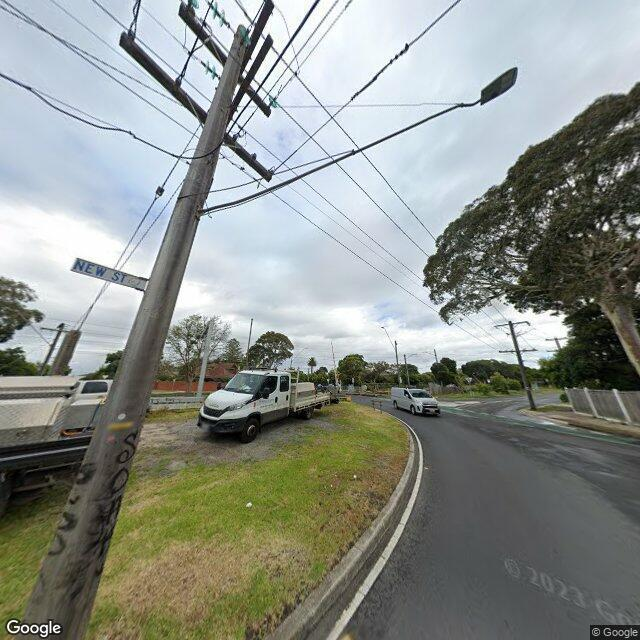HV-transmission: (179, 0, 298, 120)
crossarm: (118, 30, 276, 184), (178, 1, 271, 118), (499, 347, 538, 355), (497, 320, 527, 327), (546, 336, 568, 341), (546, 349, 562, 352)
streetlight: (197, 65, 519, 217), (381, 326, 395, 351)
timber-pole: (15, 24, 253, 640), (508, 320, 536, 410), (554, 336, 562, 349), (395, 341, 398, 363)
